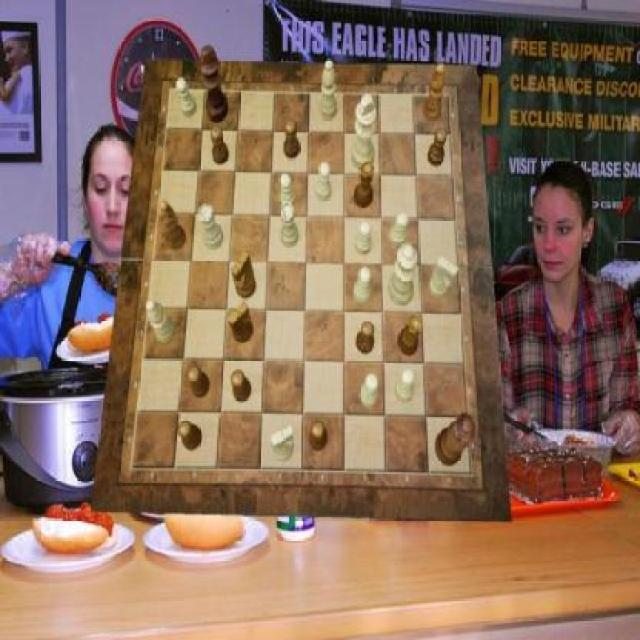bishop: (159, 200, 186, 251), (423, 63, 445, 122)
black-bishop: (200, 45, 229, 122)
black-king: (232, 251, 257, 300), (229, 302, 254, 343)
black-knight: (188, 364, 210, 398), (178, 420, 202, 451), (211, 126, 230, 165), (428, 128, 447, 166), (231, 369, 251, 403), (356, 322, 374, 356), (284, 120, 300, 158), (310, 420, 328, 451)
black-pawn: (436, 414, 476, 468)
black-queen: (397, 315, 421, 357), (354, 162, 374, 208)
black-rook: (146, 298, 177, 344), (318, 60, 338, 122)
white-bishop: (352, 92, 377, 170)
white-king: (429, 257, 459, 298), (271, 424, 294, 460)
white-knight: (177, 78, 197, 118), (360, 372, 380, 407), (389, 212, 409, 247), (396, 369, 416, 403), (316, 163, 332, 202), (354, 268, 371, 304), (280, 174, 297, 210), (354, 222, 371, 256)
white-pawn: (388, 243, 418, 305)
white-queen: (199, 205, 223, 250), (280, 201, 299, 247)
